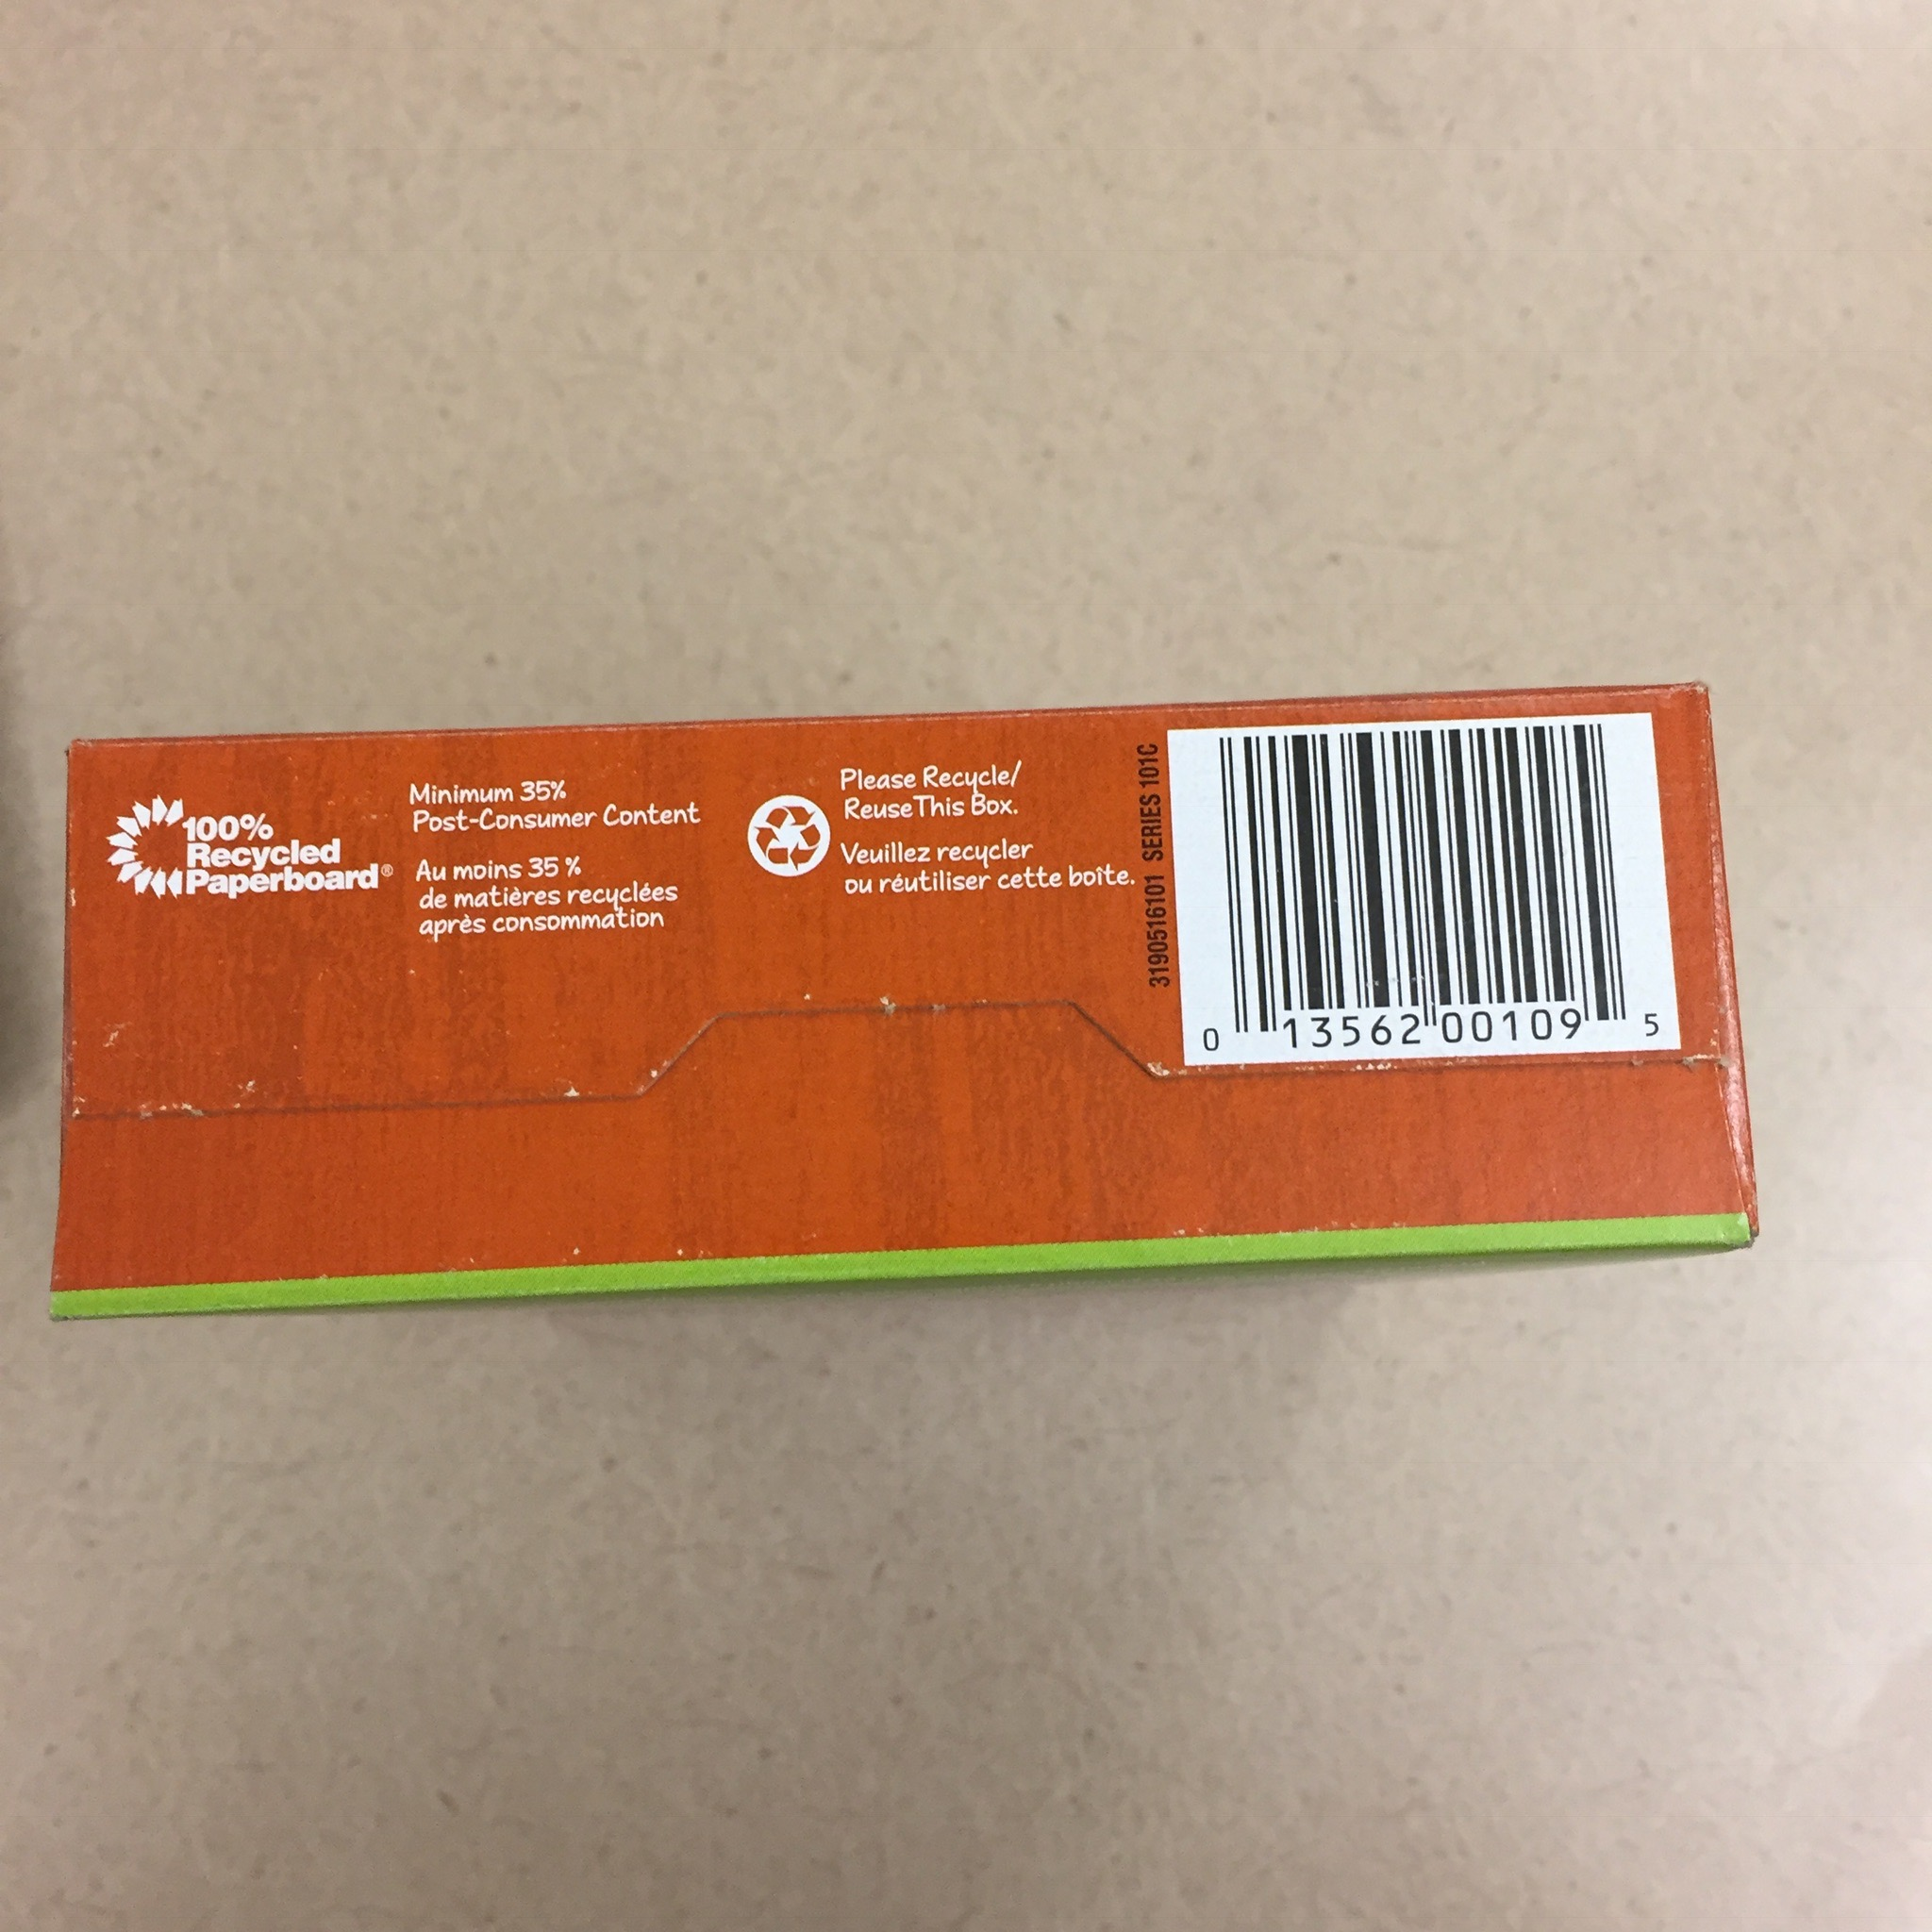annies_snickerdoodle_cinnamon_sugar: (39, 676, 1766, 1327)
